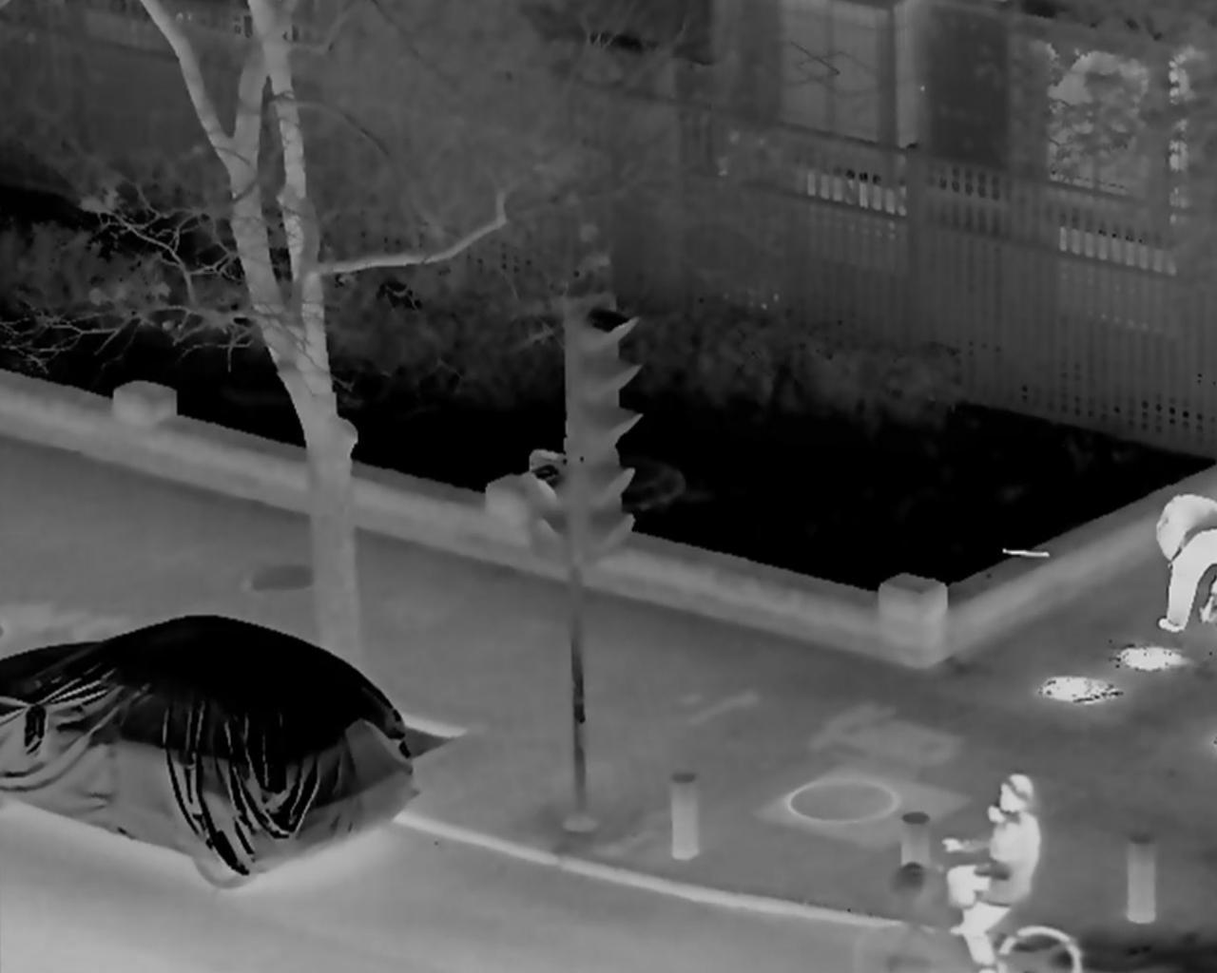person: (938, 767, 1033, 972), (1155, 494, 1217, 638)
